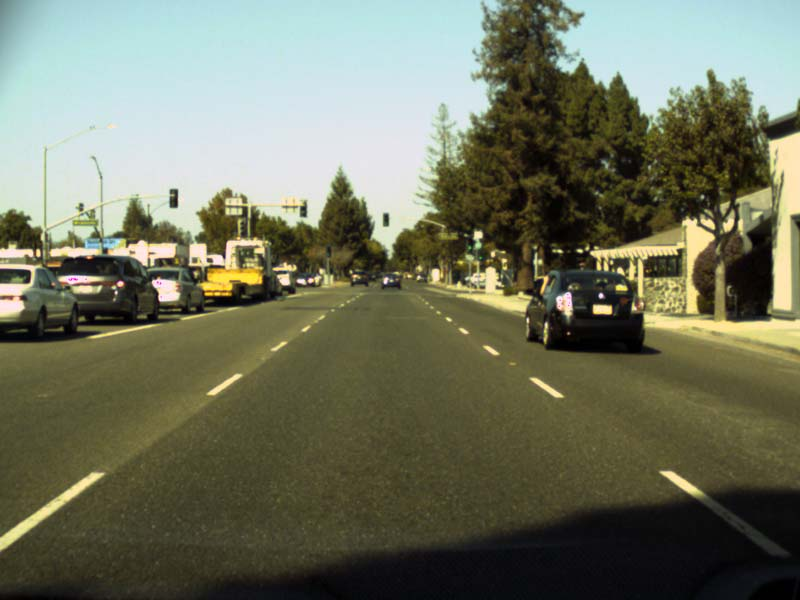Green: (466, 237, 471, 250), (478, 250, 483, 259), (326, 246, 330, 256)
